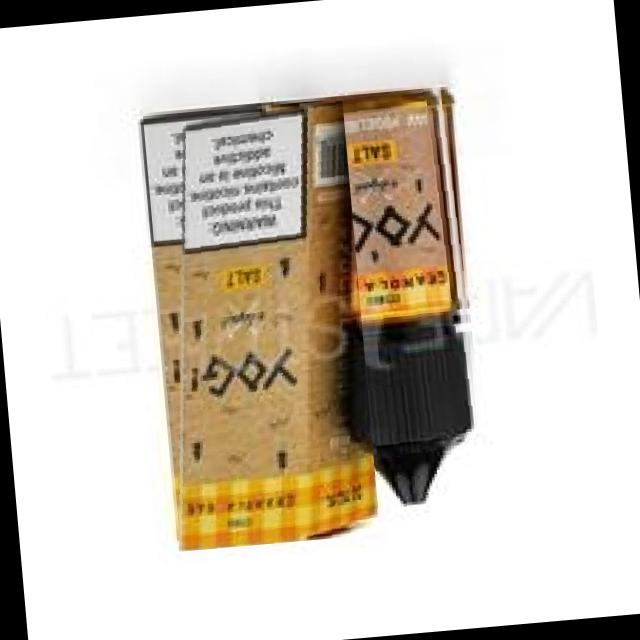Hazard: (138, 98, 378, 550), (298, 84, 490, 512)
